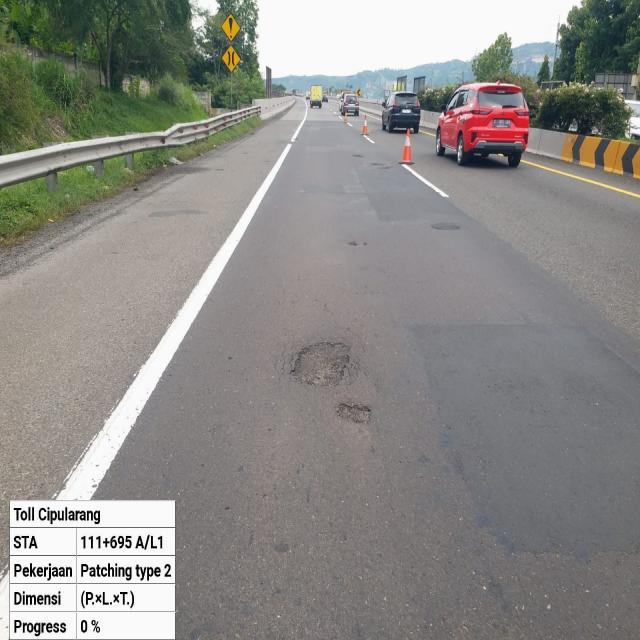Buraco: (287, 341, 353, 389), (333, 400, 374, 426), (349, 152, 366, 160), (377, 164, 396, 171), (368, 161, 387, 168)
